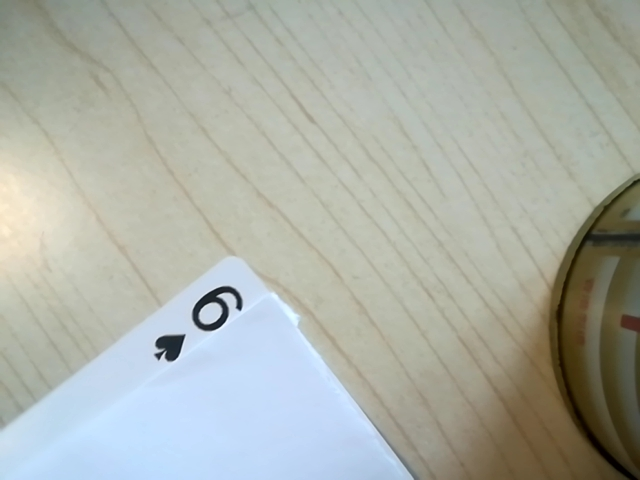ht 6: (138, 278, 258, 369)
